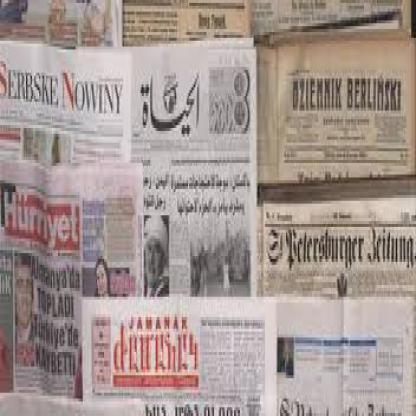paper: (0, 157, 141, 413), (128, 35, 255, 311), (80, 294, 274, 413), (276, 38, 415, 198), (0, 38, 130, 186), (274, 294, 415, 413), (262, 195, 415, 291), (252, 0, 405, 58), (120, 0, 250, 58), (0, 0, 121, 47)
